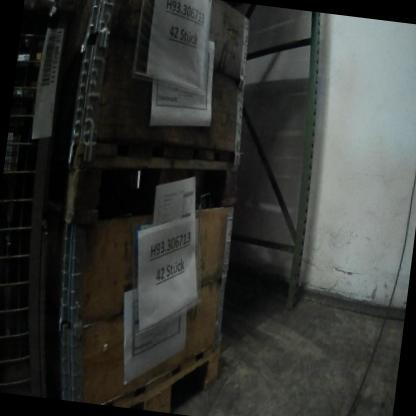pallet: (48, 118, 245, 243), (117, 330, 223, 416)
